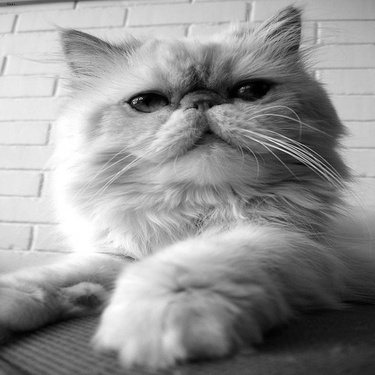cat: (5, 6, 369, 367)
